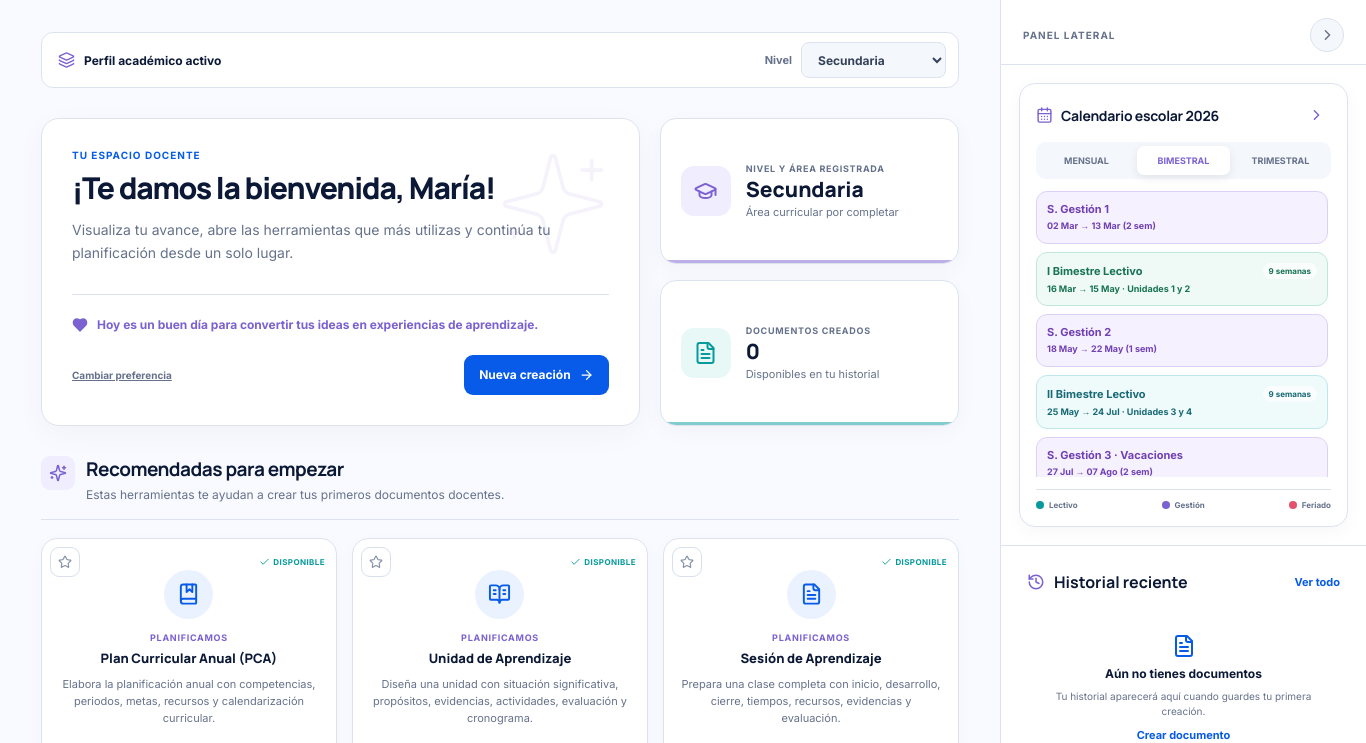
DashboardPage › recovers the complete home distribution
This screenshot has width=1366, height=743.
Expected: the heading "¡Te damos la bienvenida, María!" is shown, [72,167,495,208]
Expected: the heading "Recomendadas para empezar" is shown, [86,456,344,482]
Click the button "Nueva creación" at (536, 375), box [464,355,609,395]
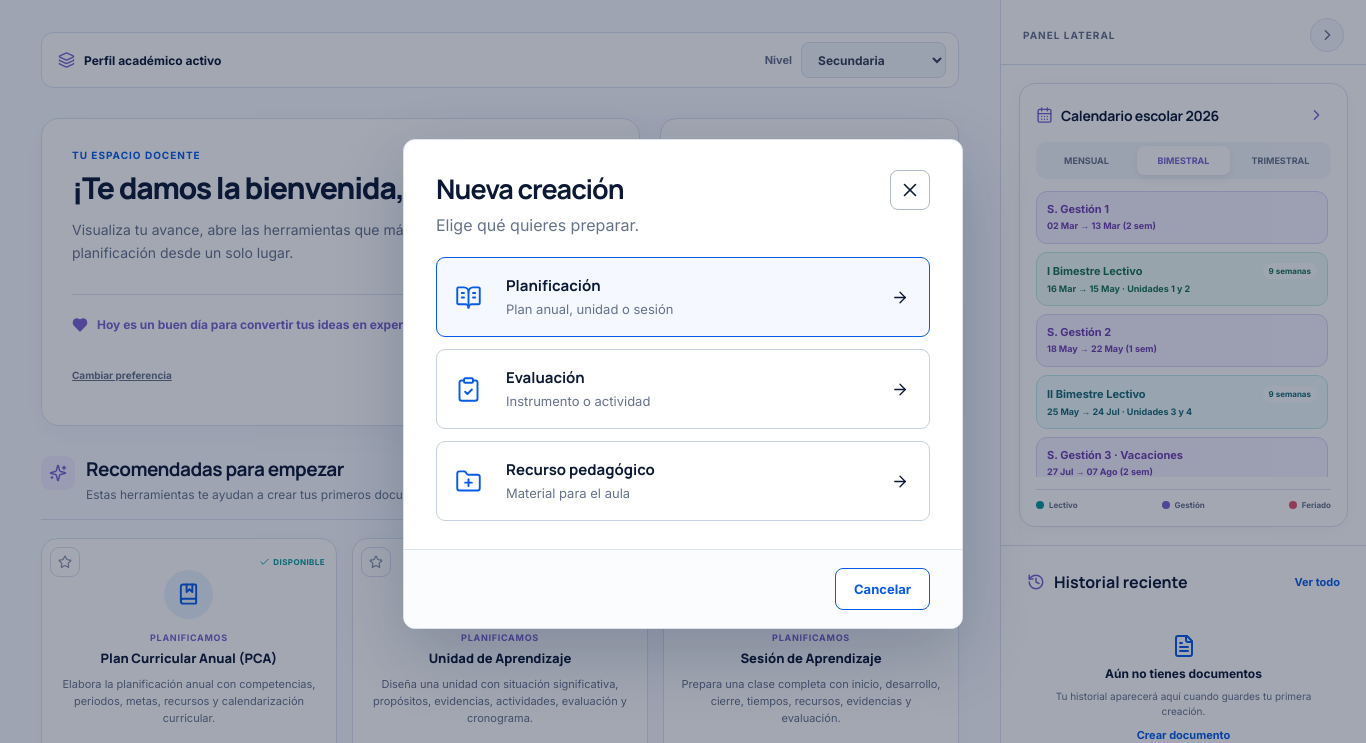
Expected: the dialog "Nueva creación" is shown, [403,139,963,629]
Expected: the button "Planificación Plan anual, unidad o sesión" is shown, [436,257,930,337]
